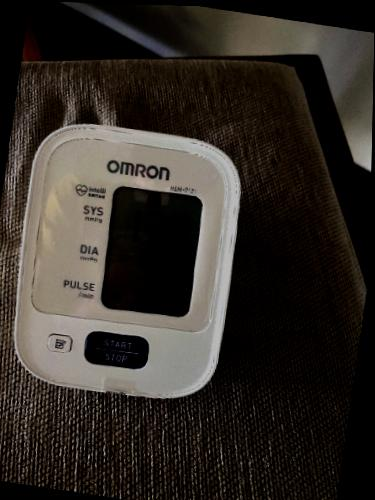bpm: (100, 184, 203, 319)
